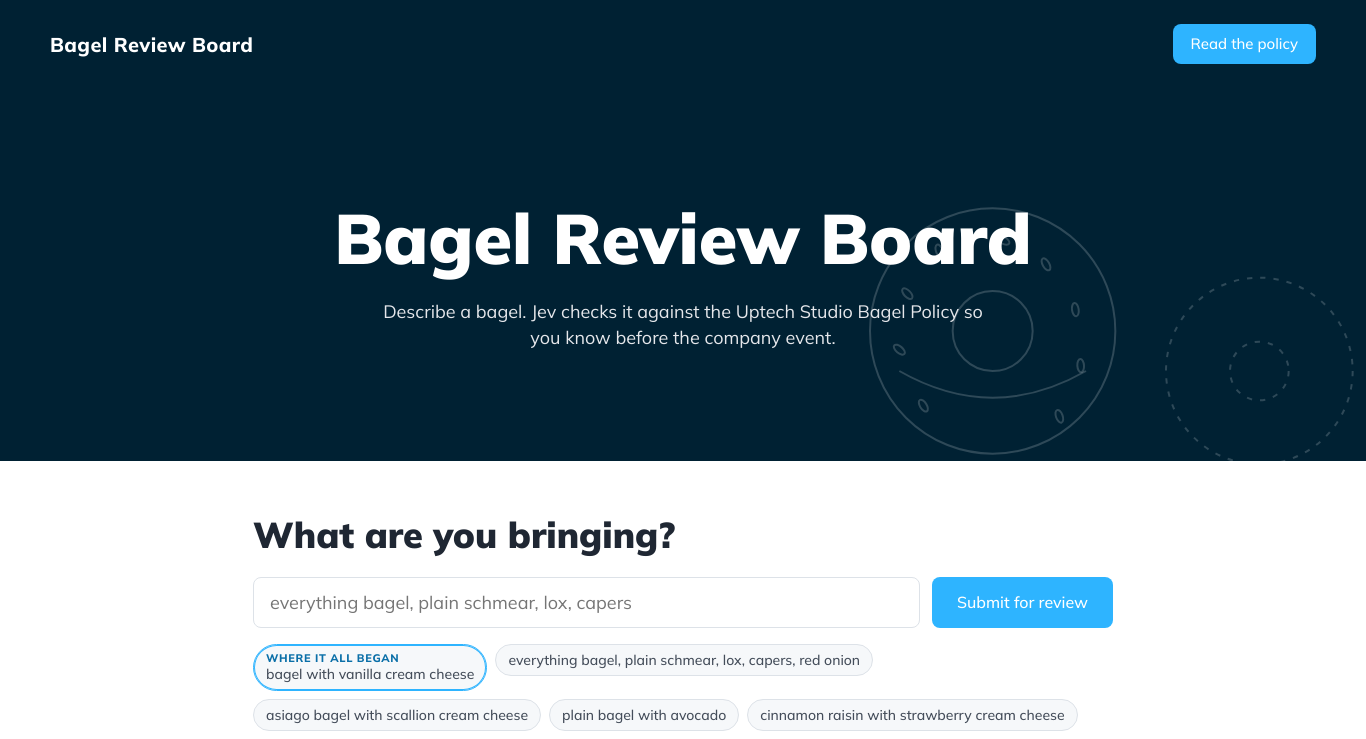
Test case: App › rules on a typed order
In the field labelled "What are you bringing?": [586, 602] box x1=253 y1=577 x2=920 y2=628, type "Plain Bagel with LOX"
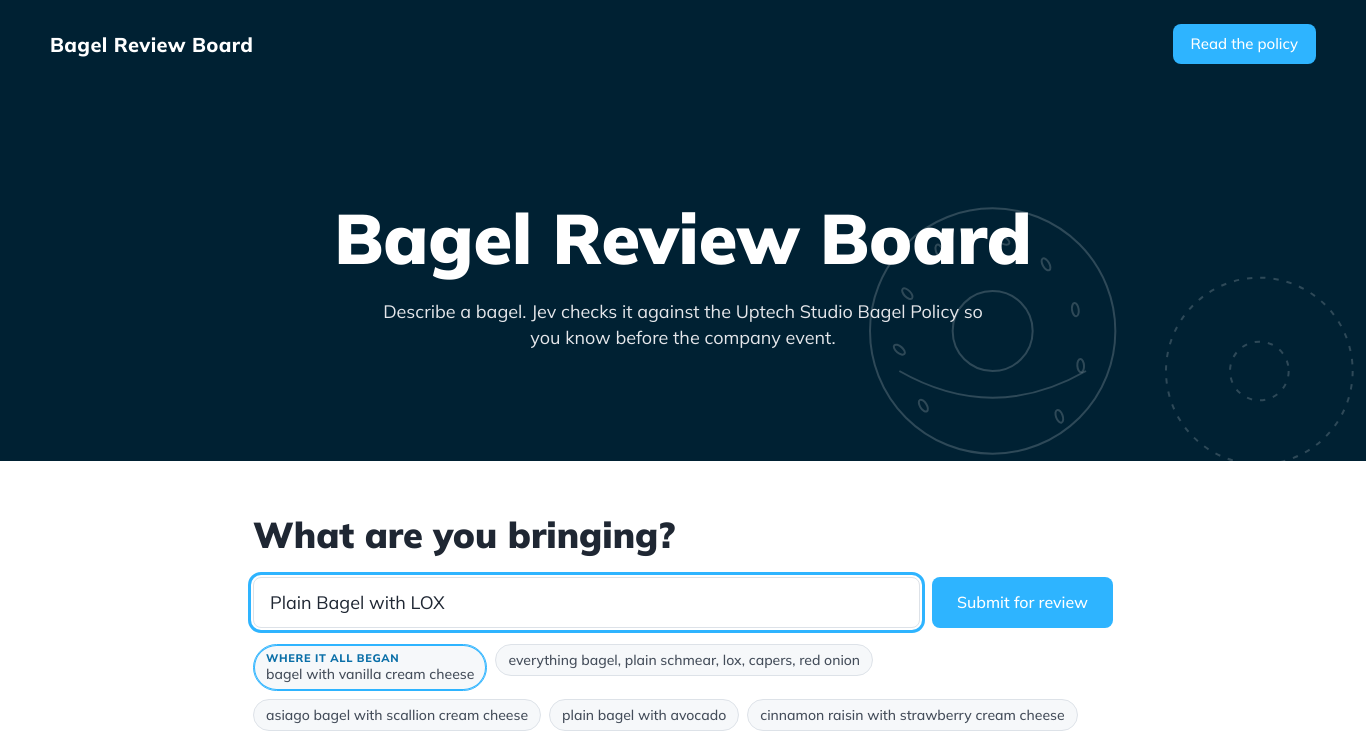
Click the button "Submit for review": [1022, 602] box x1=932 y1=577 x2=1113 y2=628
(page scrolled)
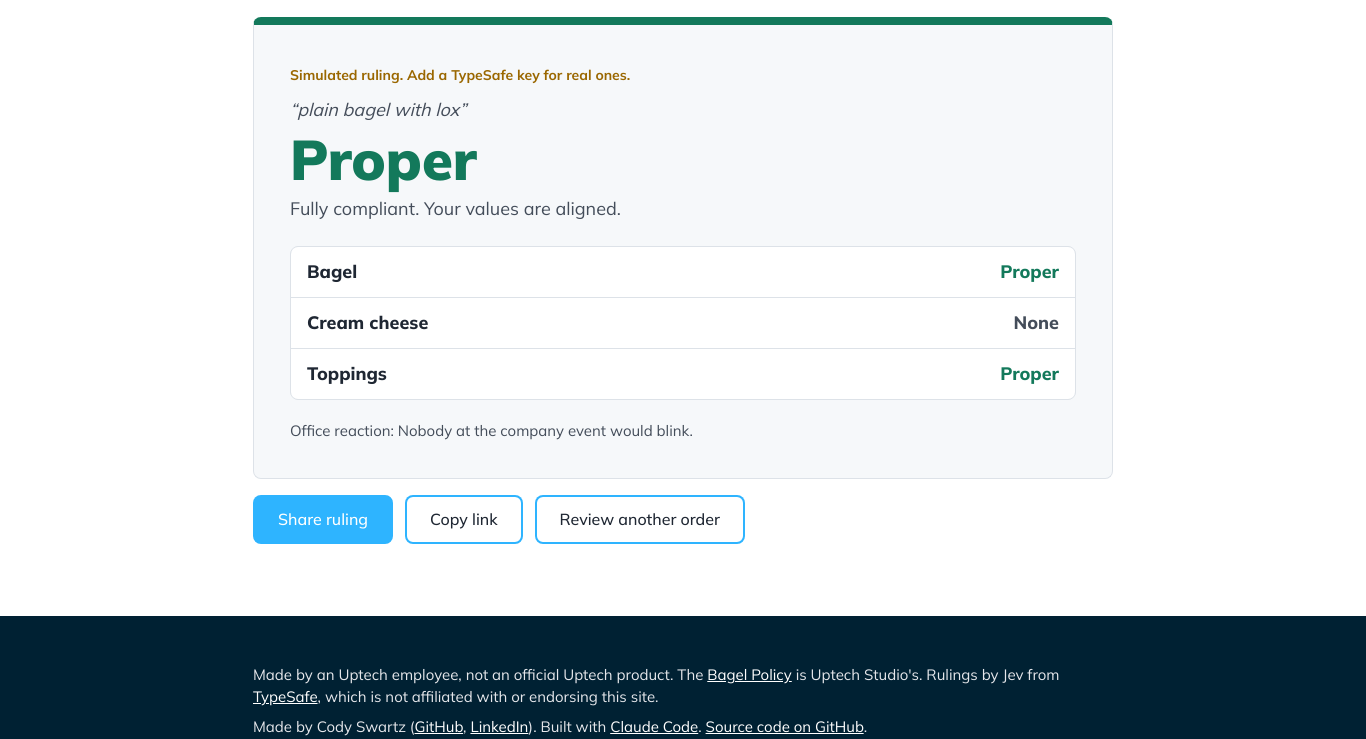
Result: the heading "Proper" is shown at x1=290 y1=124 x2=477 y2=194
